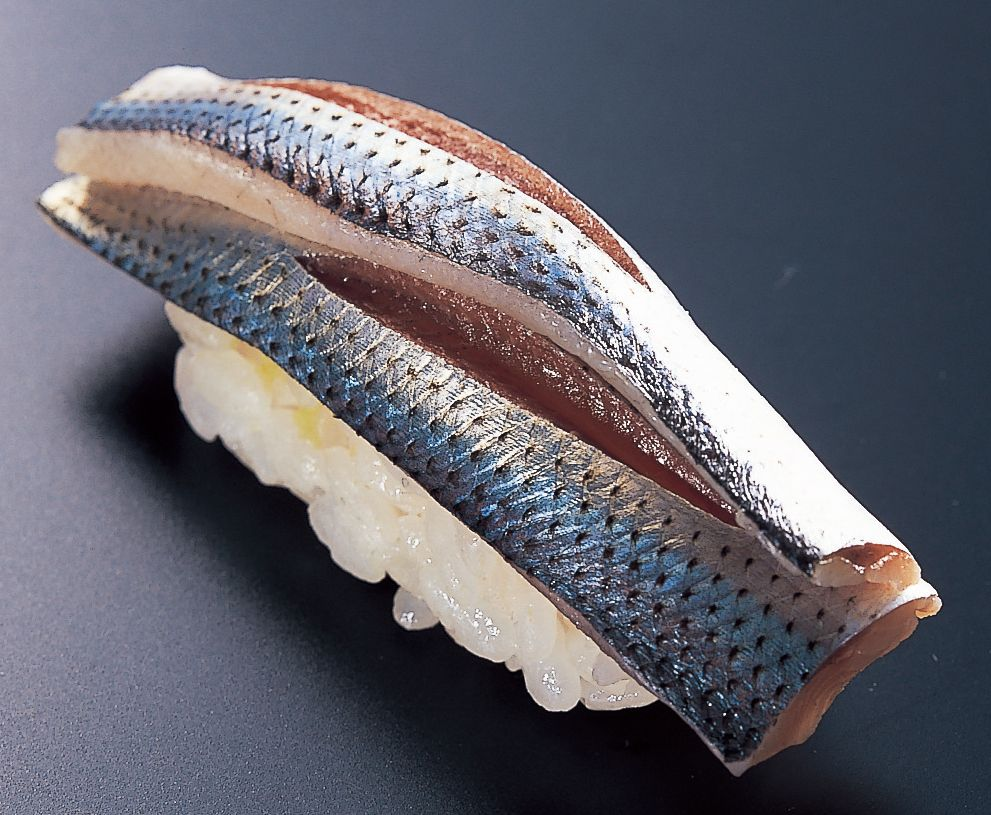spotted-shad: (57, 65, 932, 759)
